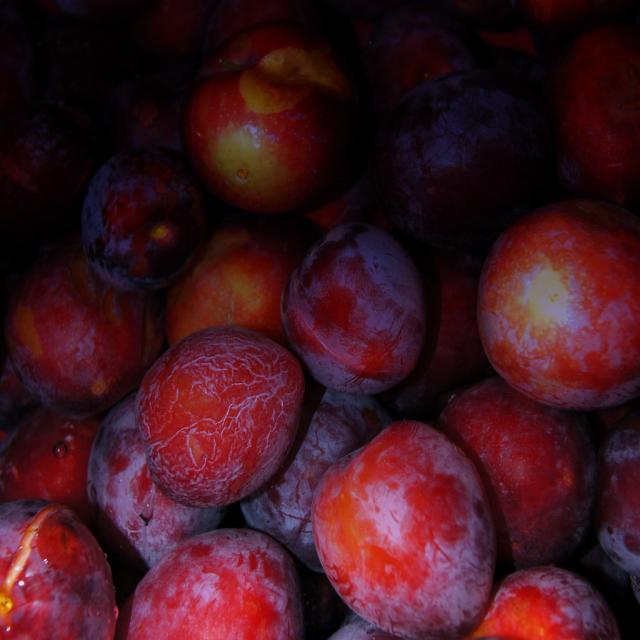Apple pie: (309, 410, 493, 638)
